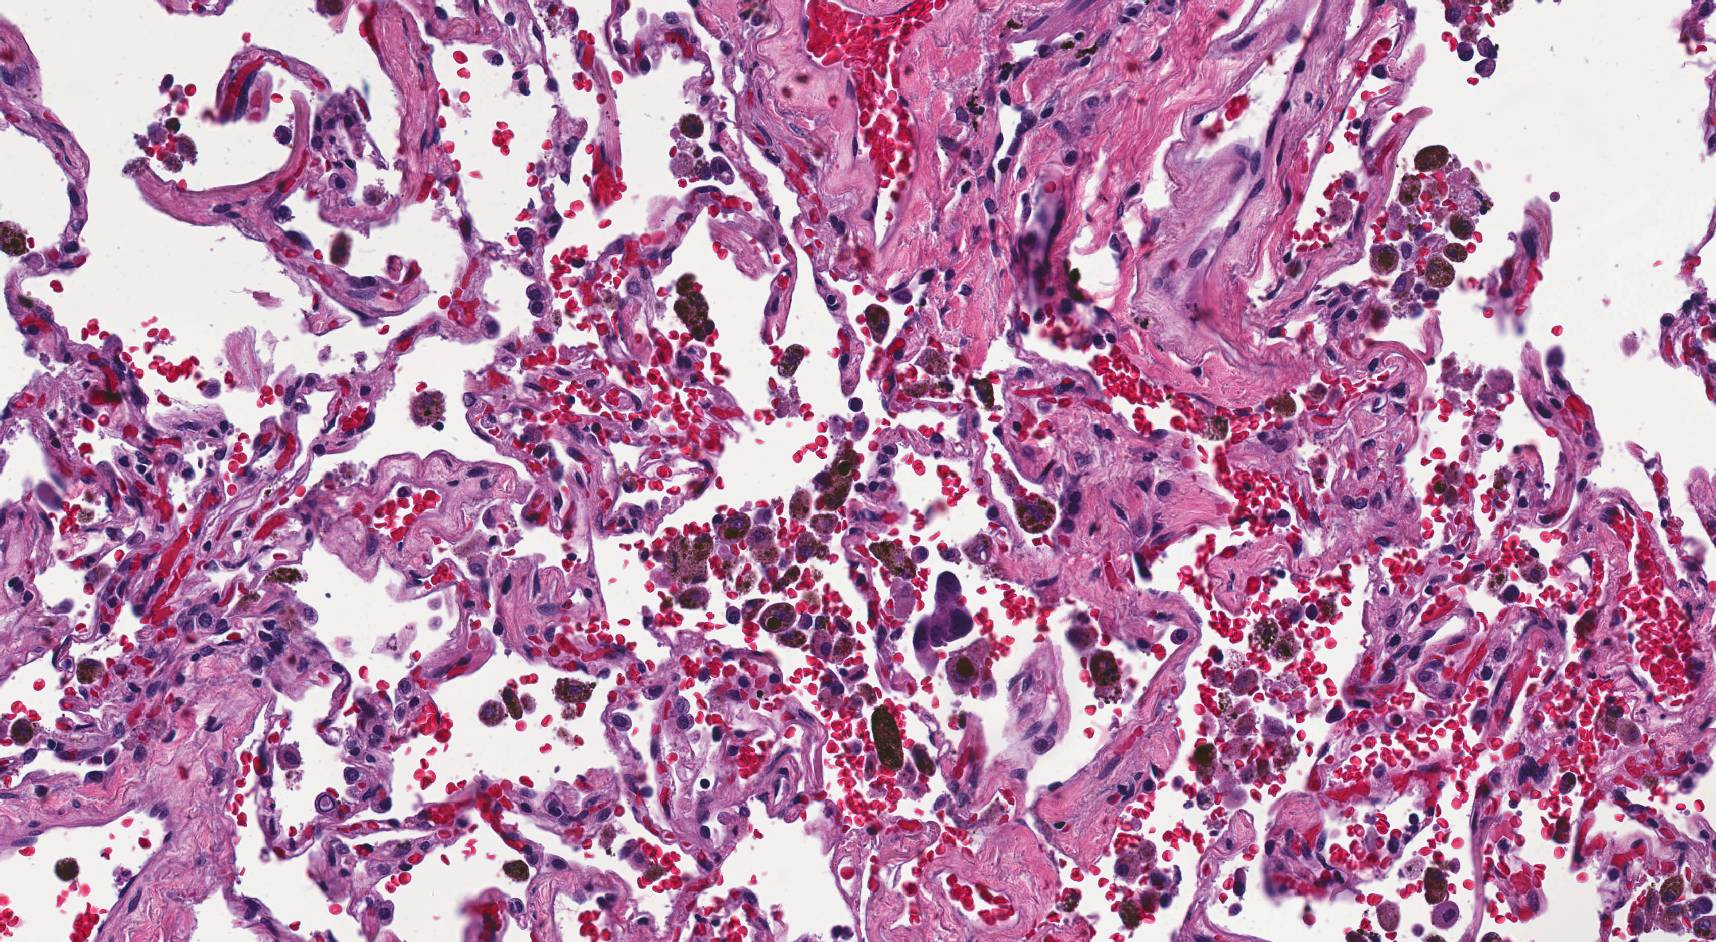stas: (911, 572, 974, 677)
